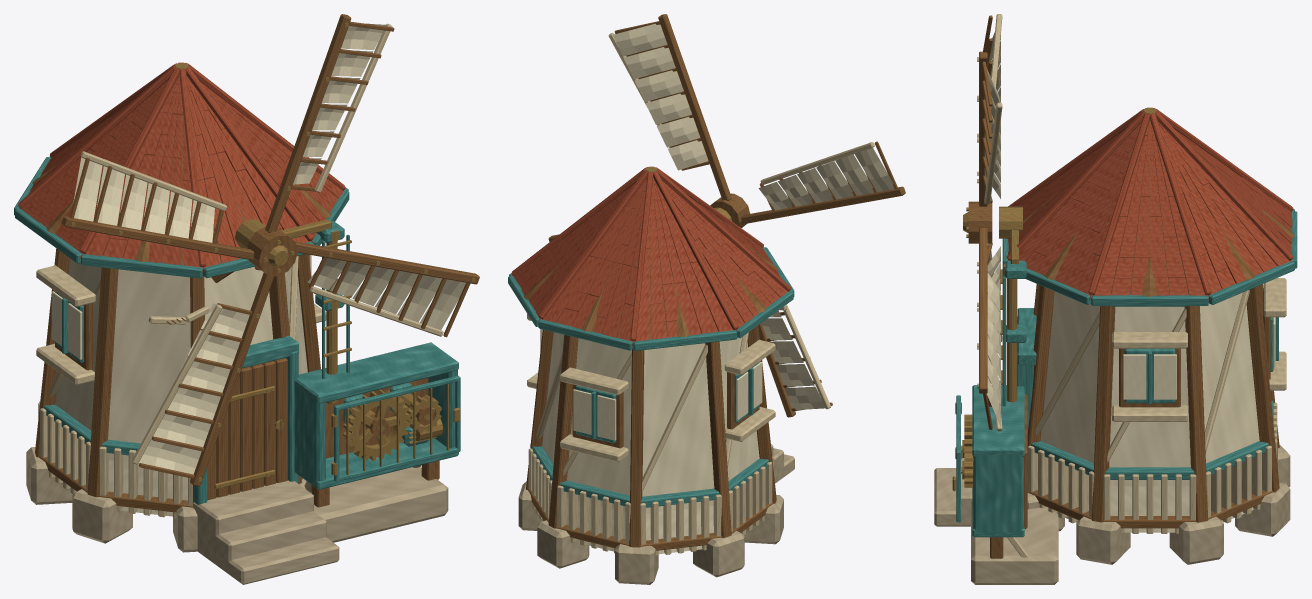
The model's file is headland-windmill.glb.
3 views of the same model, side by side, from view 1: azimuth 30°, elevation 25°; view 2: azimuth 150°, elevation 25°; view 3: azimuth 270°, elevation 25° (orthographic). The views are drawn at different scales.
Visible parts, largest first — view 1: ShingleRoof_RussetShingle, Foundation_Sandstone, SailRoot_Linen, TowerShell_Plaster, SailRoot_Oak, GroundHousing_TealPaint, TowerShell_Oak, TowerShell_PaleTimber, Door_Oak, SailRoot_PaleTimber, TowerShell_TealPaint, ShingleRoof_TealPaint (+11 smaller); view 2: ShingleRoof_RussetShingle, TowerShell_Plaster, TowerShell_PaleTimber, SailRoot_Linen, TowerShell_Oak, Foundation_Sandstone, SailRoot_Oak, TowerShell_TealPaint, ShingleRoof_TealPaint, TowerShell_Linen, SailRoot_PaleTimber, ShingleRoof_Oak; view 3: ShingleRoof_RussetShingle, TowerShell_Plaster, TowerShell_PaleTimber, TowerShell_Oak, Foundation_Sandstone, GroundHousing_TealPaint, TowerShell_TealPaint, SailRoot_Oak, ShingleRoof_TealPaint, SailRoot_Linen, TowerShell_Linen, ShingleRoof_Oak (+5 smaller).
Part boxes in pixels (left/top/right/bottom): ShingleRoof_RussetShingle: left=18, top=62, right=345, bottom=272; Foundation_Sandstone: left=26, top=447, right=448, bottom=584; SailRoot_Linen: left=73, top=23, right=465, bottom=474; TowerShell_Plaster: left=55, top=258, right=307, bottom=516; SailRoot_Oak: left=61, top=14, right=479, bottom=486; GroundHousing_TealPaint: left=294, top=220, right=458, bottom=489; TowerShell_Oak: left=35, top=248, right=320, bottom=512; TowerShell_PaleTimber: left=36, top=243, right=326, bottom=518; Door_Oak: left=207, top=358, right=287, bottom=500; SailRoot_PaleTimber: left=80, top=23, right=443, bottom=464; TowerShell_TealPaint: left=44, top=291, right=298, bottom=505; ShingleRoof_TealPaint: left=14, top=156, right=349, bottom=278; ShingleRoof_RussetShingle: left=511, top=166, right=790, bottom=345; TowerShell_Plaster: left=542, top=332, right=759, bottom=554; TowerShell_PaleTimber: left=527, top=314, right=775, bottom=555; SailRoot_Linen: left=613, top=23, right=894, bottom=409; TowerShell_Oak: left=526, top=325, right=776, bottom=550; Foundation_Sandstone: left=518, top=444, right=794, bottom=584; SailRoot_Oak: left=548, top=14, right=905, bottom=417; TowerShell_TealPaint: left=532, top=362, right=768, bottom=507; ShingleRoof_TealPaint: left=508, top=246, right=794, bottom=350; TowerShell_Linen: left=540, top=329, right=762, bottom=440; SailRoot_PaleTimber: left=608, top=33, right=874, bottom=409; ShingleRoof_Oak: left=524, top=197, right=778, bottom=339; ShingleRoof_RussetShingle: left=1006, top=107, right=1293, bottom=300; TowerShell_Plaster: left=1040, top=291, right=1259, bottom=532; TowerShell_PaleTimber: left=1028, top=278, right=1286, bottom=533; TowerShell_Oak: left=1007, top=238, right=1279, bottom=528; Foundation_Sandstone: left=934, top=444, right=1290, bottom=584; GroundHousing_TealPaint: left=972, top=260, right=1026, bottom=537; TowerShell_TealPaint: left=1017, top=306, right=1278, bottom=479; SailRoot_Oak: left=968, top=15, right=992, bottom=429; ShingleRoof_TealPaint: left=1002, top=209, right=1297, bottom=305; SailRoot_Linen: left=984, top=32, right=1000, bottom=426; TowerShell_Linen: left=1123, top=317, right=1275, bottom=399; ShingleRoof_Oak: left=1023, top=160, right=1294, bottom=296.
Size of the model in its own units: 4.72 by 5.66 by 3.81.
8 materials, 8 textured.
